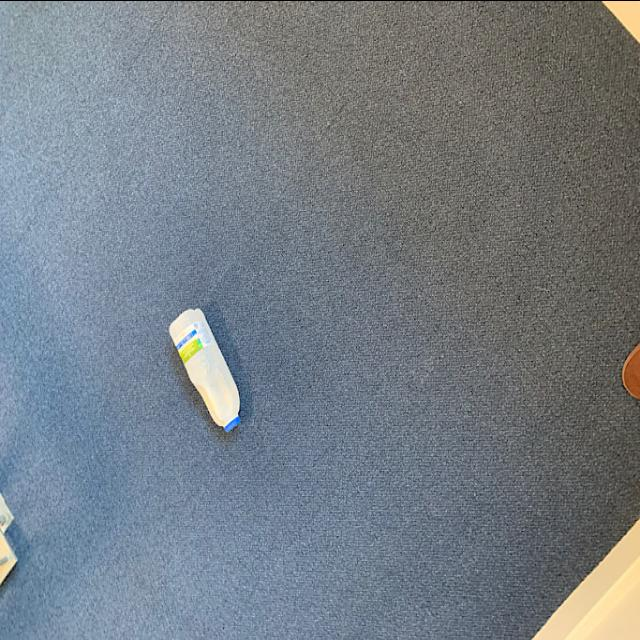HDPEM: (165, 301, 247, 440)
